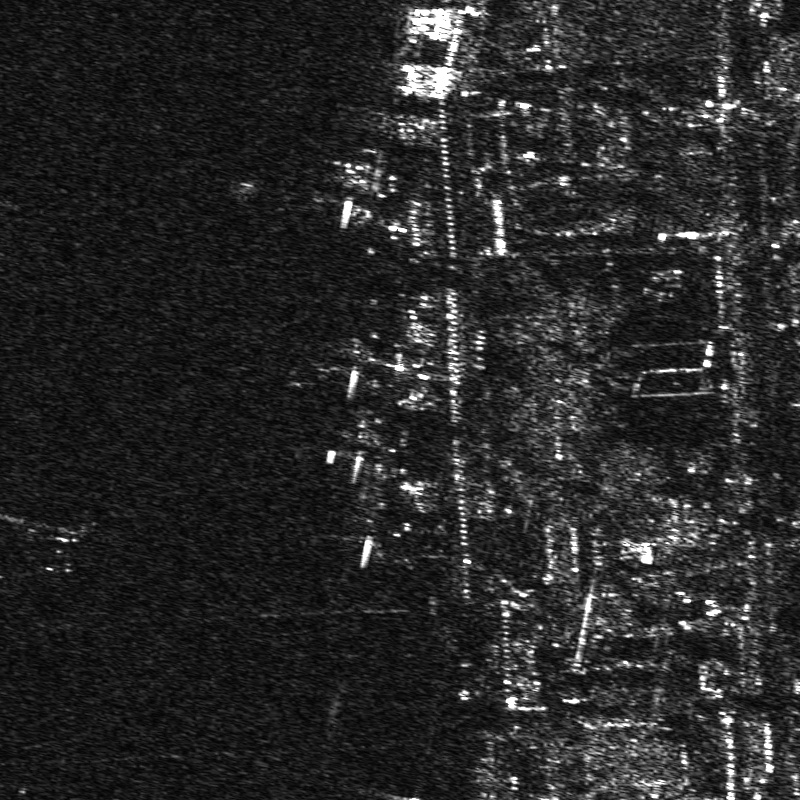A220: (28, 515, 93, 576)
